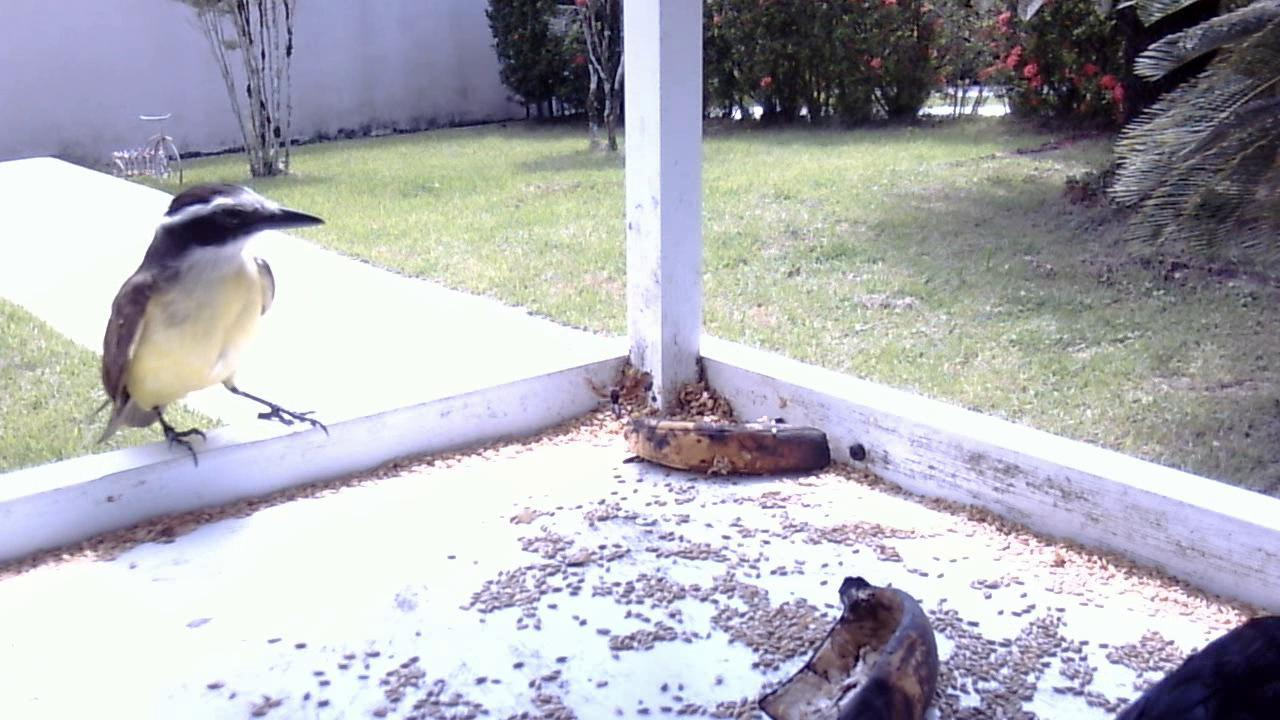bem_te_vi: (81, 170, 343, 480)
